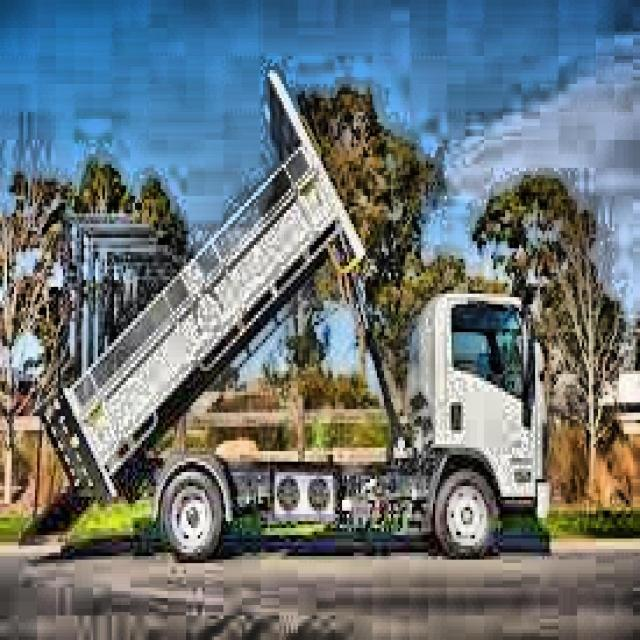dump_truck: (38, 119, 553, 603)
